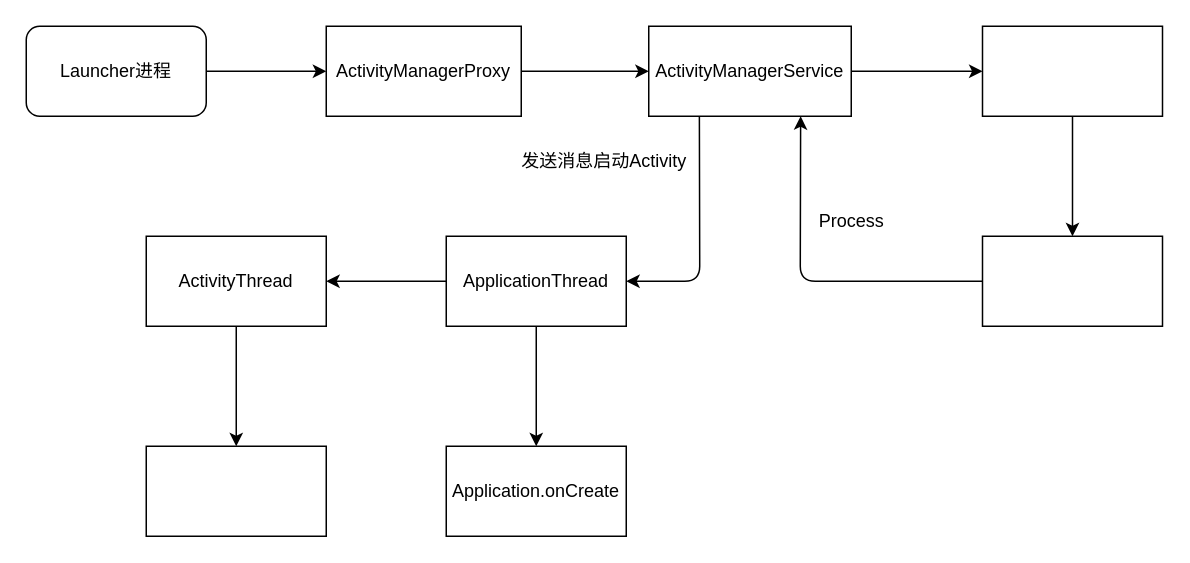
Image size: 1190x563. Some labels were removed from this diagram. Here are the shapes that lost their labels. From the top down, the centre of each, then its label:
point (1071, 70): 校验Activity是否注册，确定Activity的启动模式等信息
point (1071, 280): Zygote孵化器fork一个进程并返回结果
point (235, 490): Activity.onCreate
